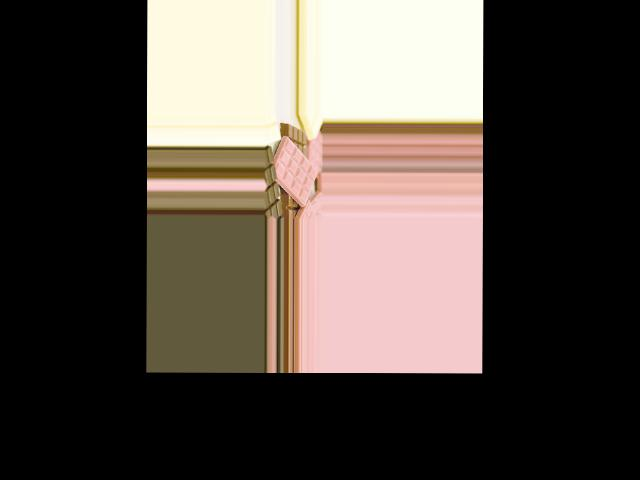chocolate: (263, 137, 319, 207)
